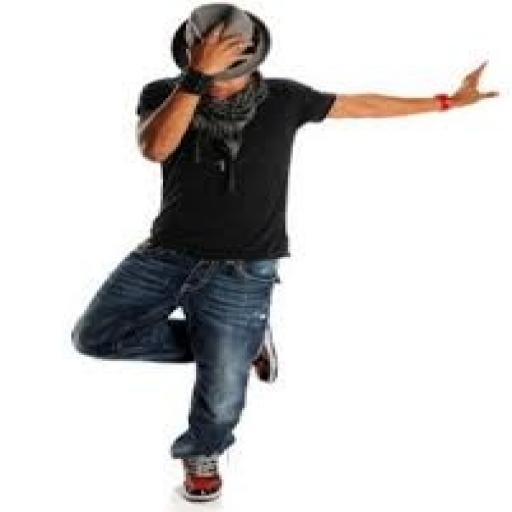dancing: (66, 0, 502, 506)
